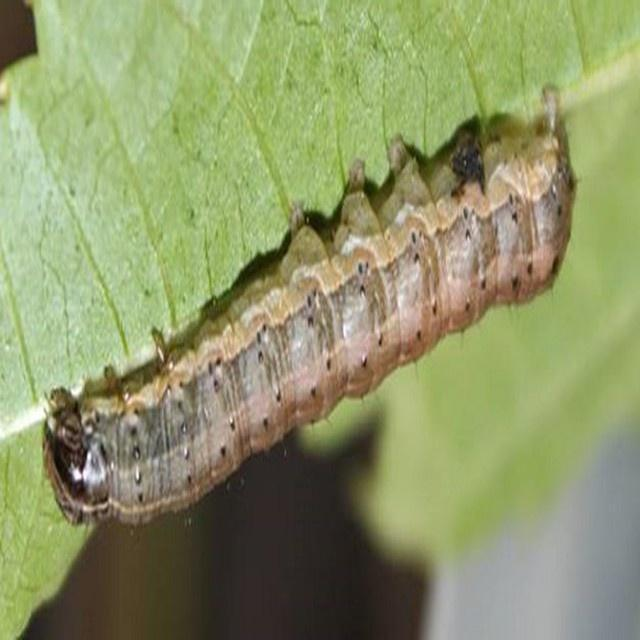gusano_cogollero: (45, 96, 572, 524)
